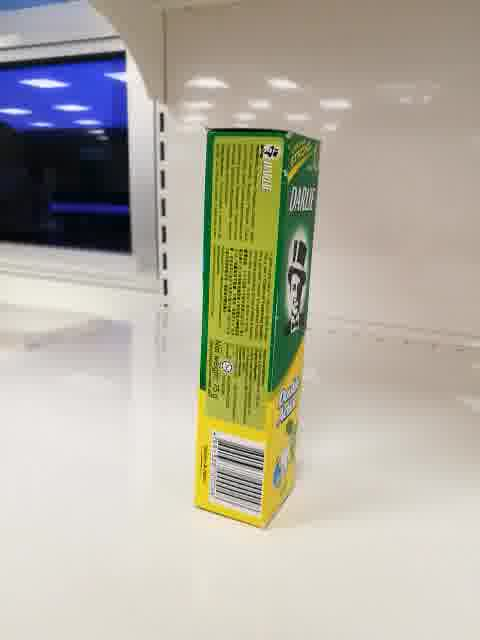toothpaste: (194, 128, 322, 530)
